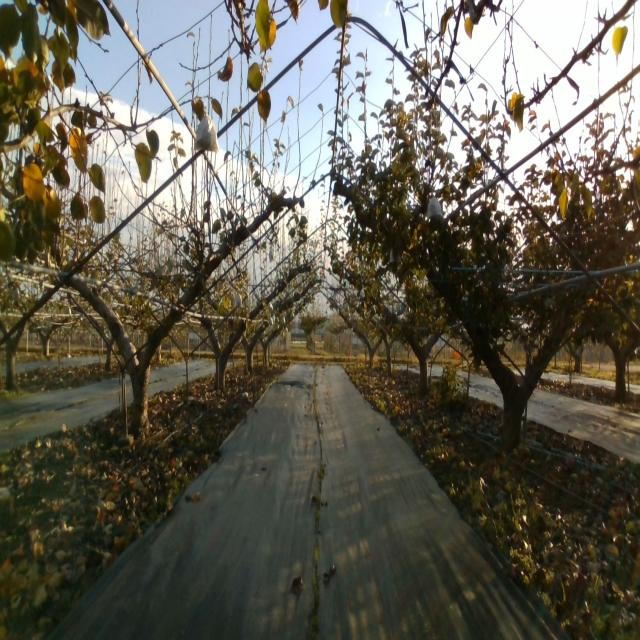pearbags: (193, 112, 219, 153), (427, 196, 443, 220)
